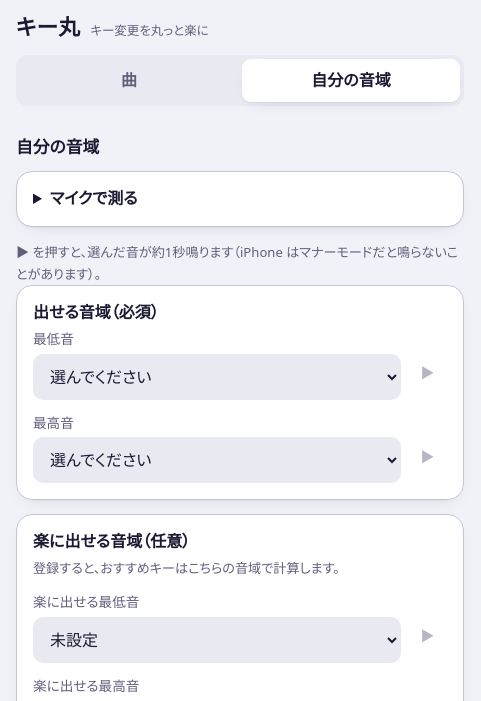
Test: マイクで測る（許可・やり直し） › まだ何も測っていなければ、「やり直す」は押せず、入れるボタンも出ない
Click the heading "マイクで測る".
click(94, 198)  # box [50,187,138,209]
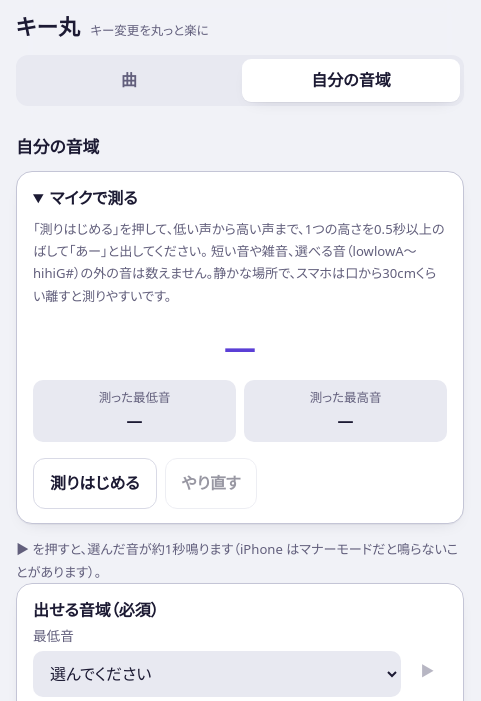
Expected: the button "やり直す" is disabled, [165,458,257,509]
Expected: the text with test id "measured-low" reads "―", [126,409,142,431]
